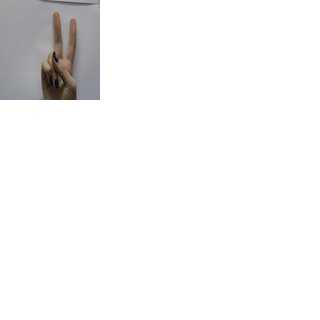scissors: (32, 5, 80, 101)
